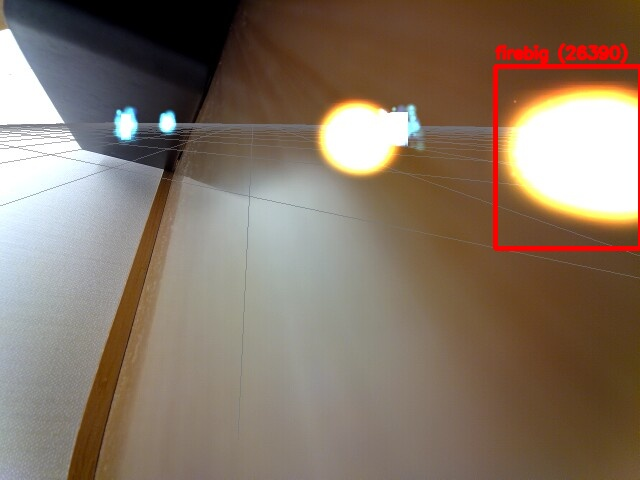firebig: (495, 66, 640, 248)
